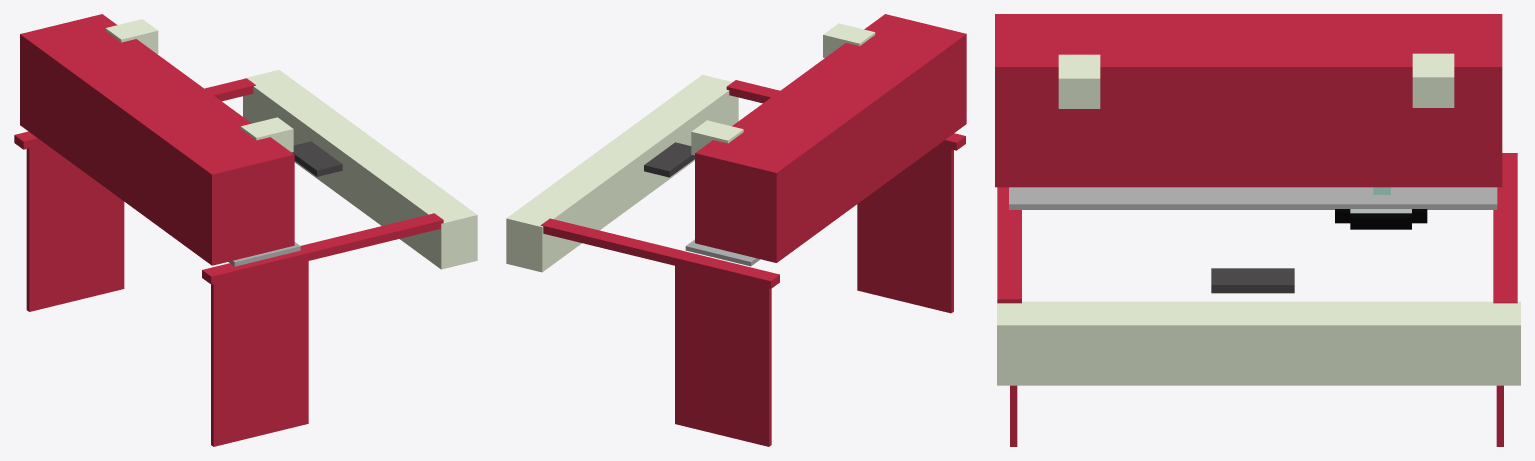
The model's file is car 1.fbx.
The picture shows the model from 3 angles, left to right: view 1: azimuth 30°, elevation 25°; view 2: azimuth 150°, elevation 25°; view 3: azimuth 270°, elevation 25°; orthographic projection. The views are drawn at different scales.
Parts seen in each view (by area): view 1: mirror; view 2: mirror; view 3: mirror.
Part boxes in pixels (x1,y1,x2,y2): mirror: [14, 14, 477, 446]; mirror: [506, 14, 966, 446]; mirror: [995, 14, 1520, 446].
Size of the model in its own units: 1322 by 1333 by 1712.
